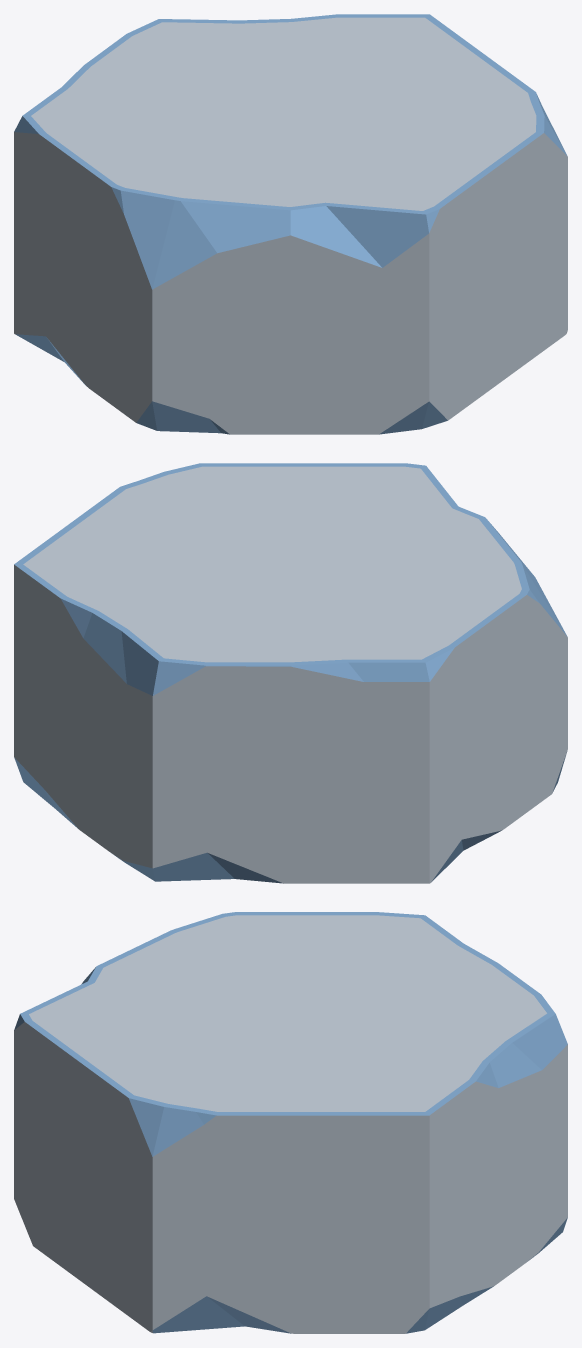
Rendered from hex_4.fbx.
3 renders of one model, top to bottom at view 1: azimuth 30°, elevation 25°; view 2: azimuth 150°, elevation 25°; view 3: azimuth 270°, elevation 25°, orthographic.
Parts seen in each view (by area): view 1: Cylinder.152; view 2: Cylinder.152; view 3: Cylinder.152.
Boxes of the visible parts, bbox=[...] form: Cylinder.152: bbox=[14, 14, 567, 434]; Cylinder.152: bbox=[14, 463, 567, 883]; Cylinder.152: bbox=[14, 912, 567, 1333].
Bounding box in the file's own units: 99.9 × 50 × 115.
